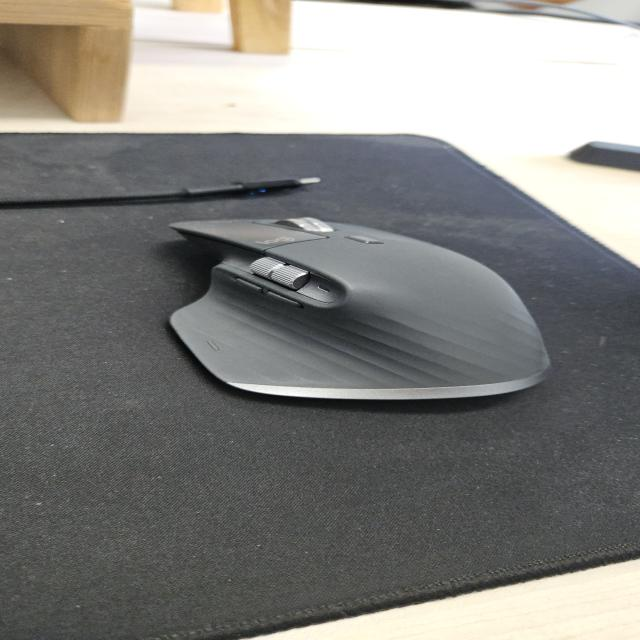Mouse: (163, 215, 555, 402)
